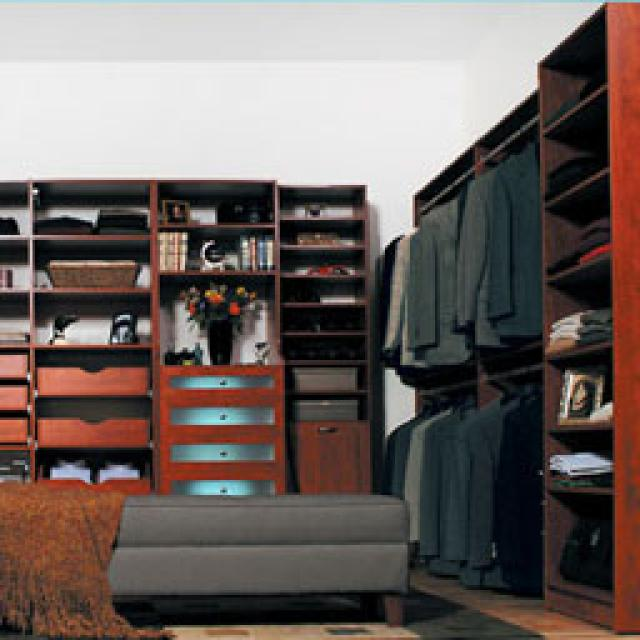books crop: (235, 232, 280, 268), (162, 228, 190, 268)
ceiling beam: (5, 0, 604, 60)
closet crop: (418, 0, 640, 630), (2, 178, 385, 492)
drawer handle: (38, 362, 155, 395), (40, 415, 152, 445)
floor -X: (2, 485, 640, 638)
flowers in pot: (182, 278, 268, 320)
jackets occluded: (388, 390, 545, 598), (458, 138, 545, 350), (382, 190, 472, 378)
seat crop: (2, 490, 412, 622)
vase -X: (210, 315, 238, 362)
wall clock: (2, 58, 468, 432), (465, 0, 612, 148)
